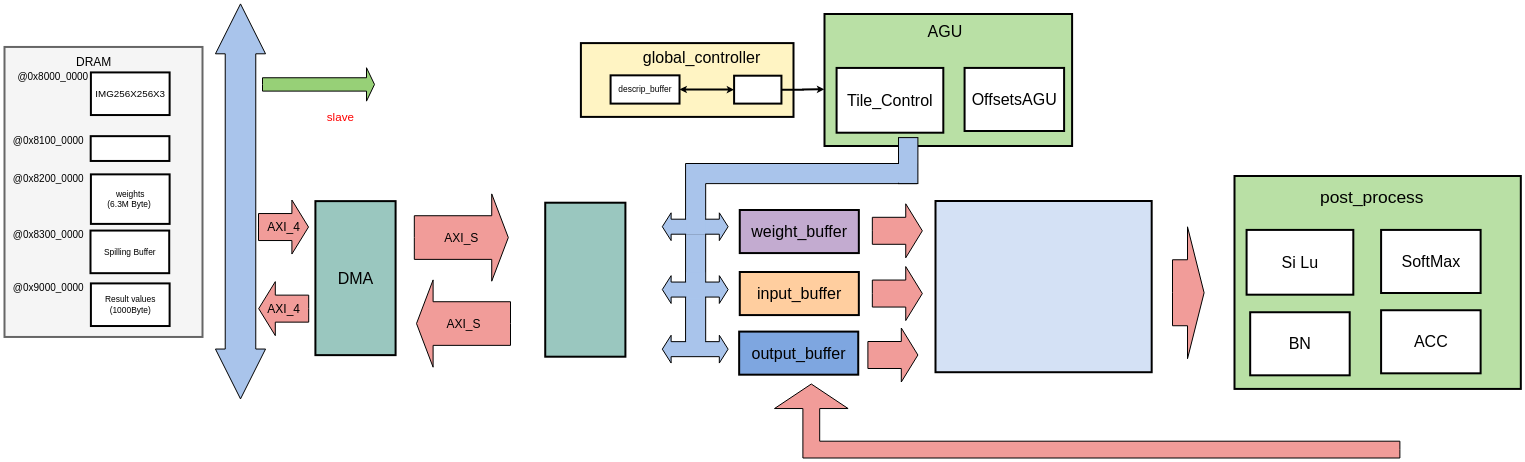
This 1525x462 diagram has some shape labels left out. Here are the shapes that lost their labels. From the top down, the centre of each, then its label:
At (318,84): "AXI_lite".
At (757,89): "FSM".
At (130,148): "model information (256bit x ~50 layer)".
At (240,201): "AXI BUS".
At (585,280): "FIFO".
At (1043,286): "LEGO_SA".
